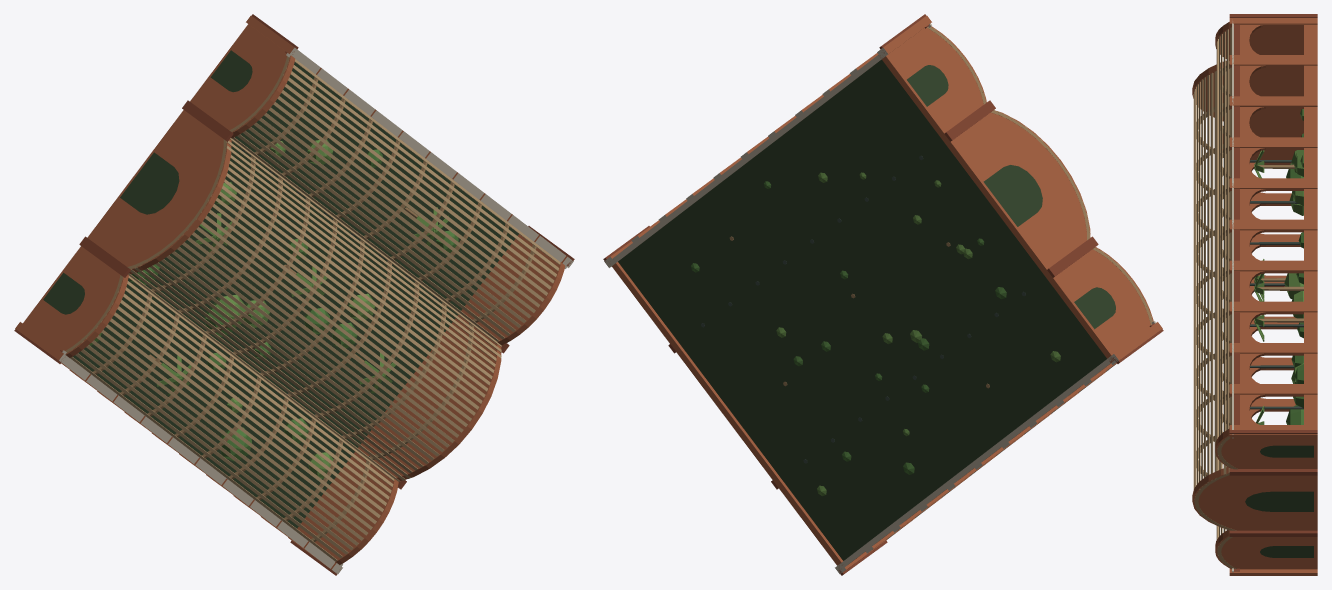
The model's file is umbracle.glb.
3 views of the same model, side by side, from view 1: azimuth 30°, elevation 25°; view 2: azimuth 150°, elevation 25°; view 3: azimuth 270°, elevation 25° (orthographic).
Visible parts, largest first — view 1: umbracle; view 2: umbracle; view 3: umbracle.
Boxes of the visible parts, x1,y1,x2,y2 form: umbracle: (14, 14, 574, 575); umbracle: (603, 14, 1163, 575); umbracle: (1192, 14, 1317, 575).
Bounding box in the file's own units: 52.48 × 52.37 × 10.95.
